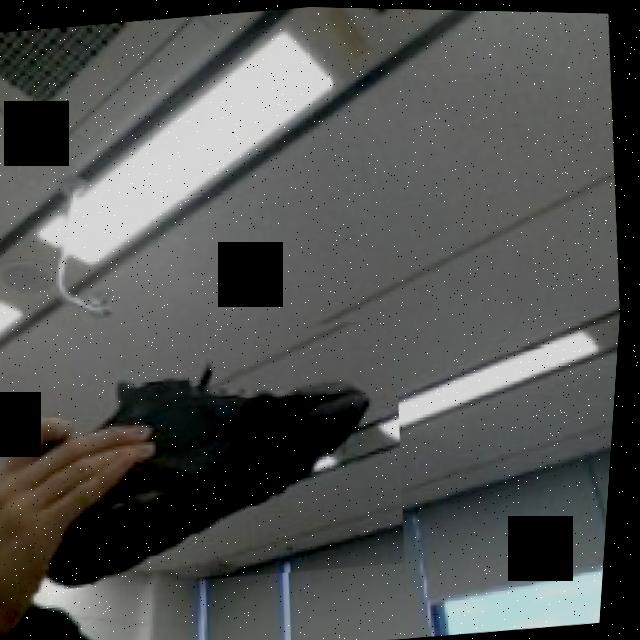shoe: (2, 297, 425, 601)
